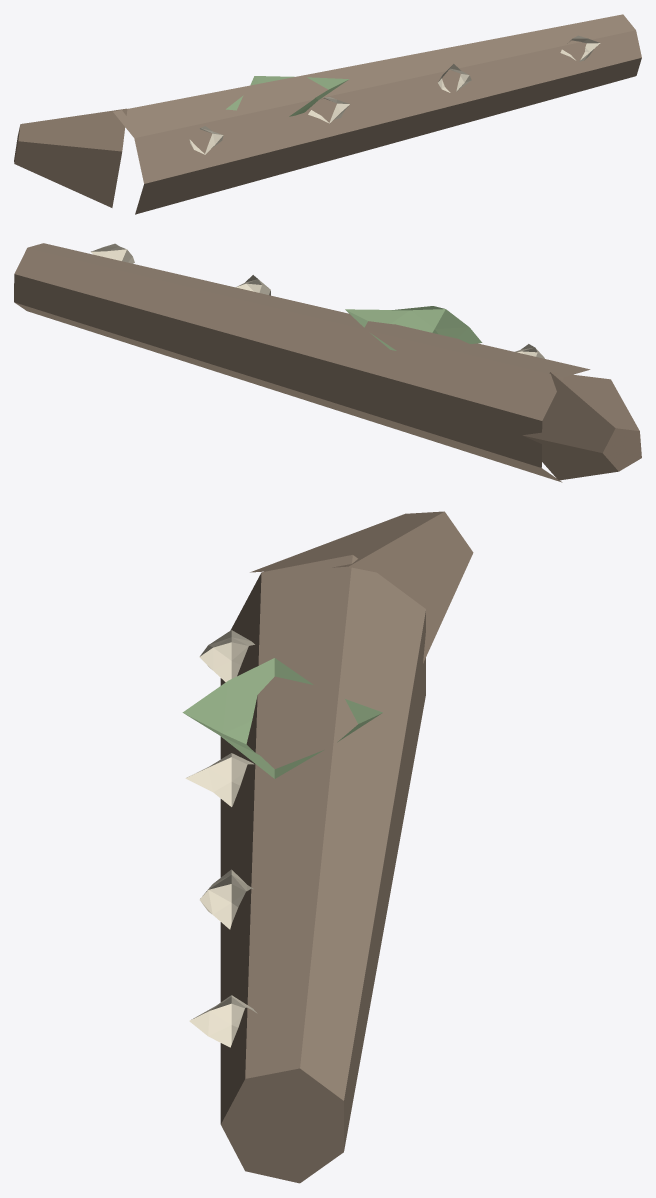
File: log_v35.glb
The picture shows the model from 3 angles, top to bottom: view 1: azimuth 30°, elevation 25°; view 2: azimuth 150°, elevation 25°; view 3: azimuth 270°, elevation 25°; orthographic projection. The views are drawn at different scales.
Parts seen in each view (by area): view 1: lod0; view 2: lod0; view 3: lod0.
Boxes of the visible parts, <box> form: lod0: <box>14,14,641,214</box>; lod0: <box>14,243,641,482</box>; lod0: <box>182,511,473,1183</box>.
Size of what is drawn, in the model's own units: 3.98 by 0.6954 by 0.8619.
